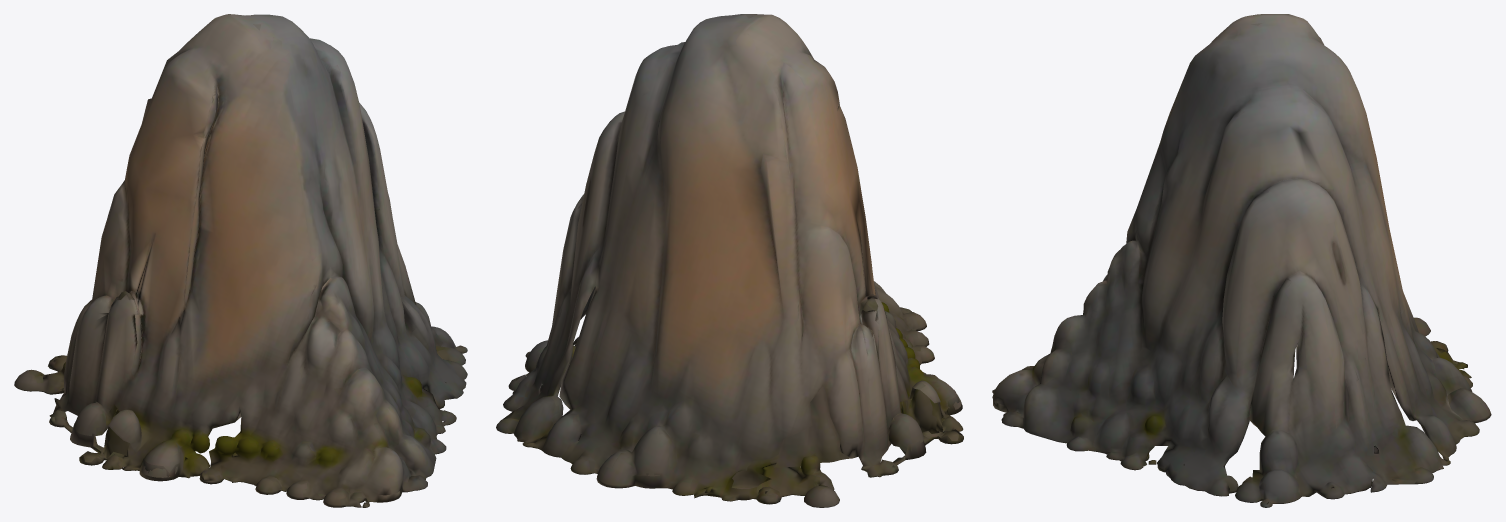
File: Outside__Rock2.cluster.glb
The picture shows the model from 3 angles, left to right: view 1: azimuth 30°, elevation 25°; view 2: azimuth 150°, elevation 25°; view 3: azimuth 270°, elevation 25°; orthographic projection. The views are drawn at different scales.
Visible parts, largest first — view 1: Rock2; view 2: Rock2; view 3: Rock2.
Boxes of the visible parts, x1,y1,x2,y2 form: Rock2: (14,14,467,507); Rock2: (496,14,963,507); Rock2: (992,14,1491,507).
Size of the model in its own units: 1.79 by 1.61 by 1.9.
Materials: 1 (1 with a texture image).
